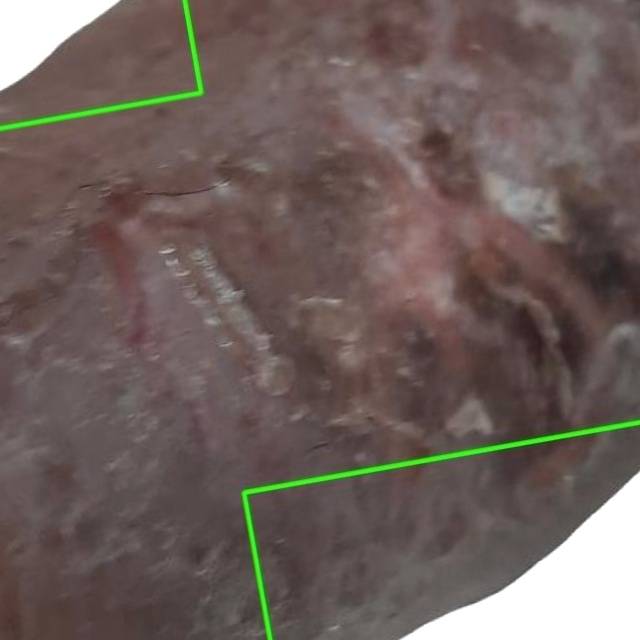Eczema: (244, 422, 639, 639)
